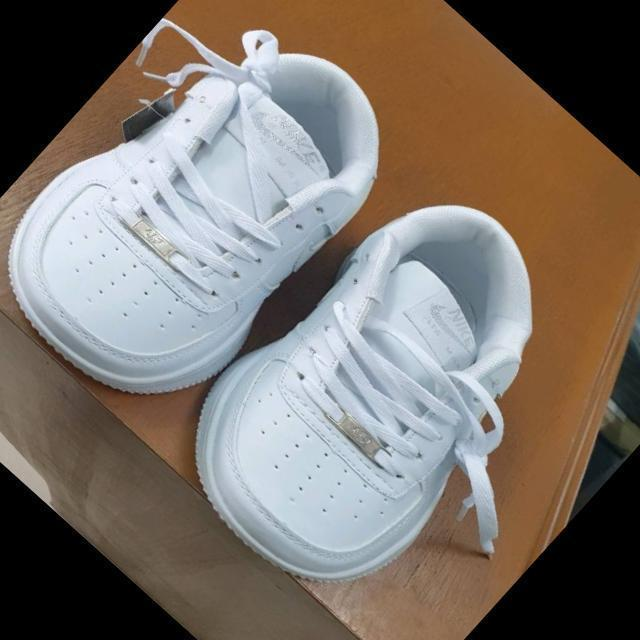nike fake air force: (145, 153, 640, 640), (0, 0, 428, 447)
